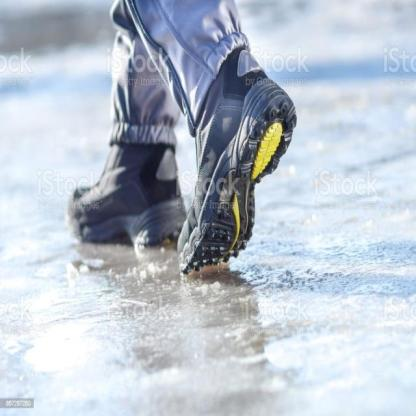bota: (174, 44, 302, 280), (59, 140, 178, 250)
